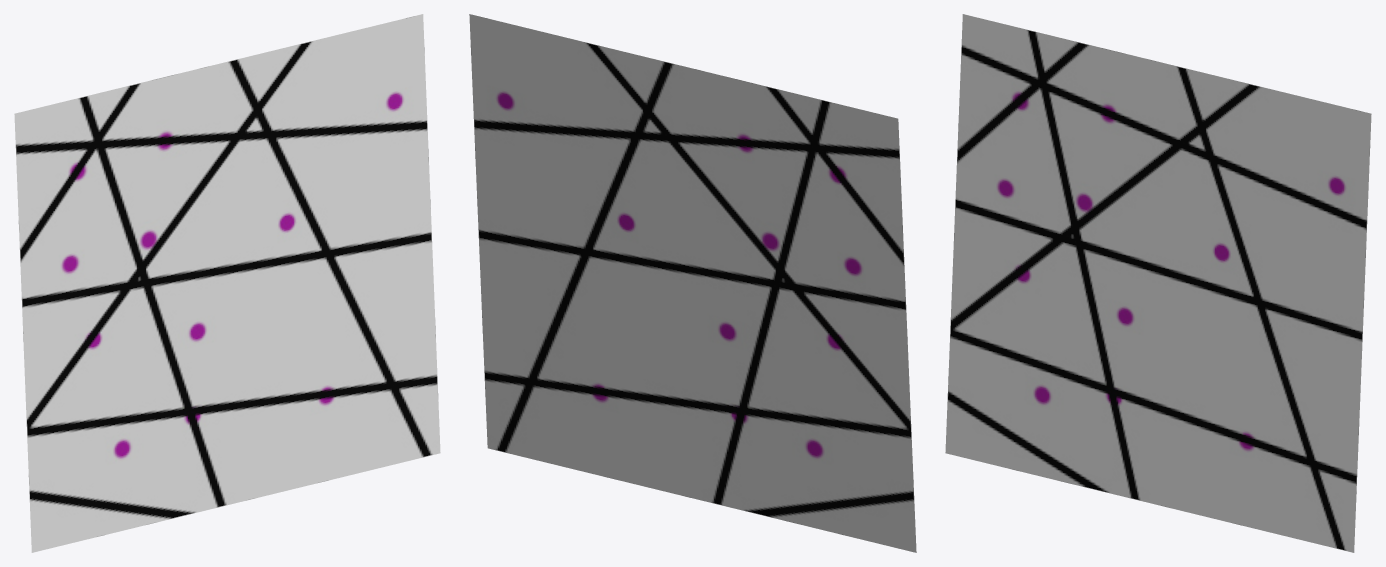
3 renders of one model, left to right at view 1: azimuth 30°, elevation 25°; view 2: azimuth 150°, elevation 25°; view 3: azimuth 330°, elevation 25°, orthographic. The views are drawn at different scales.
Parts seen in each view (by area): view 1: Grid; view 2: Grid; view 3: Grid.
Boxes of the visible parts, box(x1,y1,x2,y2) form: Grid: box(14, 14, 440, 552); Grid: box(469, 14, 916, 552); Grid: box(945, 14, 1371, 552).
Bounding box in the file's own units: 2 × 1.99 × 0.1471.
Materials: 1 (1 with a texture image).
